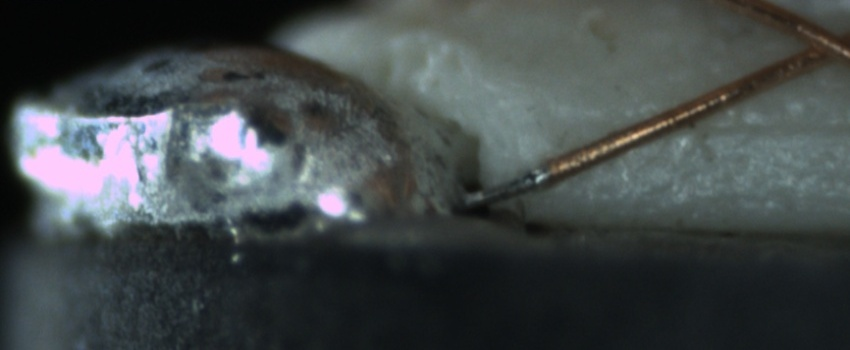CL: (775, 12, 848, 76)
DL: (610, 100, 850, 164)
TS: (461, 161, 551, 208)
TTCW: (453, 149, 589, 213)
